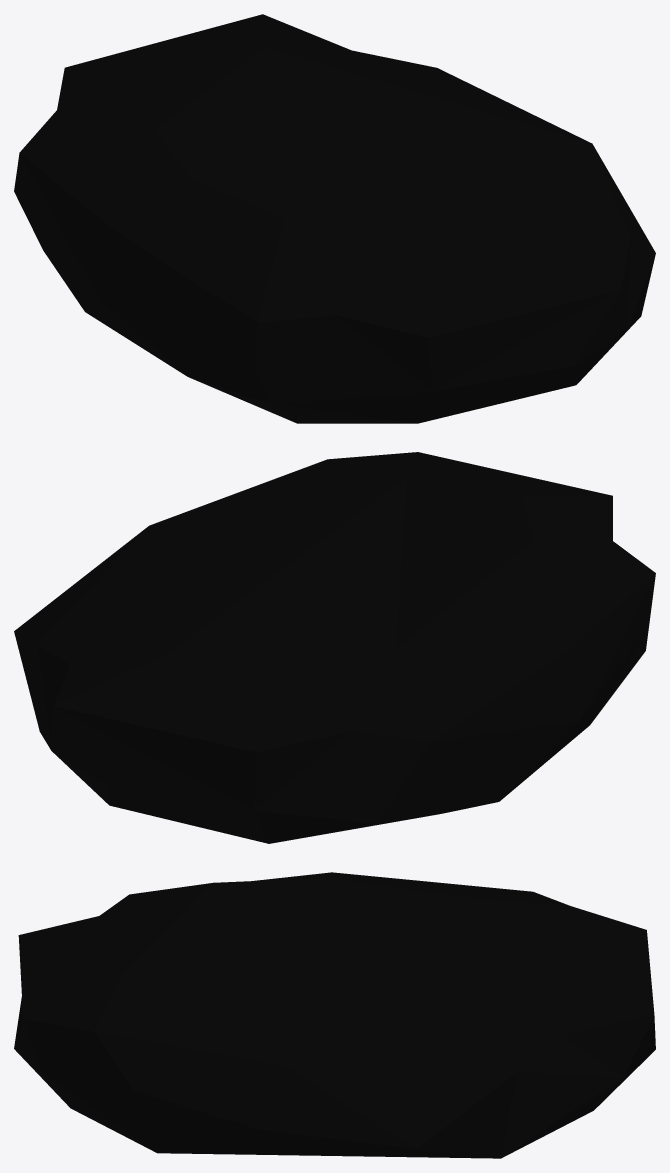
3 renders of one model, top to bottom at view 1: azimuth 30°, elevation 25°; view 2: azimuth 150°, elevation 25°; view 3: azimuth 270°, elevation 25°, orthographic. The views are drawn at different scales.
Visible parts, largest first — view 1: Cylinder.004; view 2: Cylinder.004; view 3: Cylinder.004.
Boxes of the visible parts, box(x1,y1,x2,y2) form: Cylinder.004: box(14, 14, 655, 423); Cylinder.004: box(14, 452, 655, 843); Cylinder.004: box(14, 872, 655, 1158).
Size of the model in its own units: 1.21 by 0.4819 by 1.48.
1 material, 1 textured.
